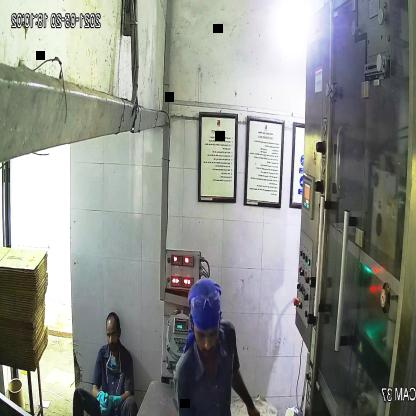no_goggles: (190, 318, 222, 346), (102, 325, 122, 343)
